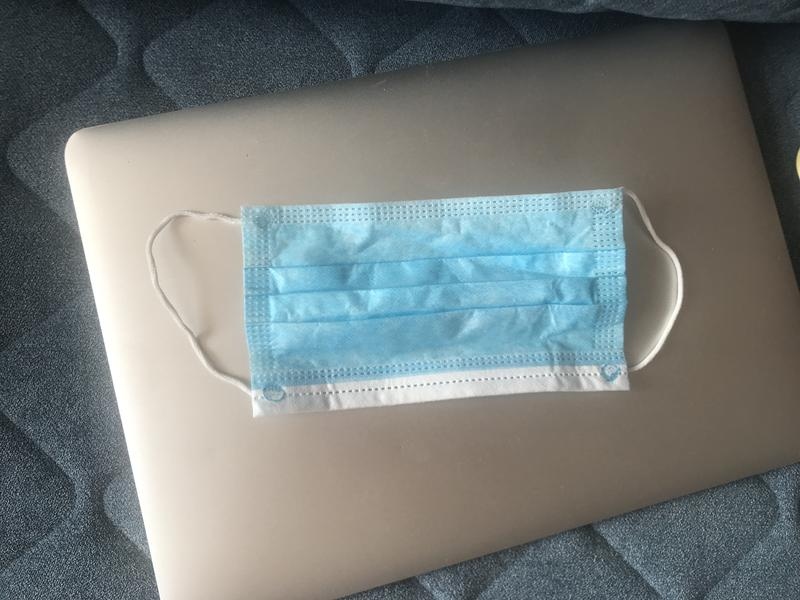medical_mask: (149, 187, 684, 416)
